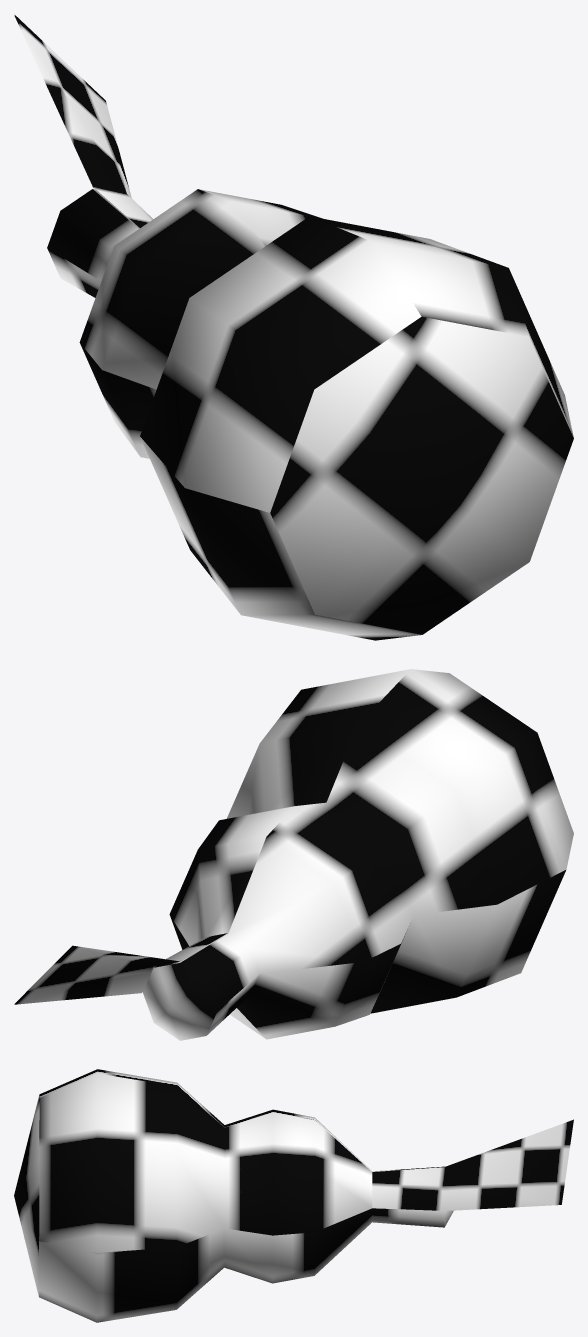
File: initqi13.dae
3 renders of one model, top to bottom at view 1: azimuth 30°, elevation 25°; view 2: azimuth 150°, elevation 25°; view 3: azimuth 270°, elevation 25°, orthographic. The views are drawn at different scales.
Parts seen in each view (by area): view 1: item; view 2: item; view 3: item.
Part boxes in pixels (x1,y1,x2,y2): item: (14, 15, 573, 640); item: (14, 669, 573, 1040); item: (14, 1069, 573, 1322).
Size of the model in its own units: 0.7378 by 1.53 by 0.7378.
1 material, 1 textured.
